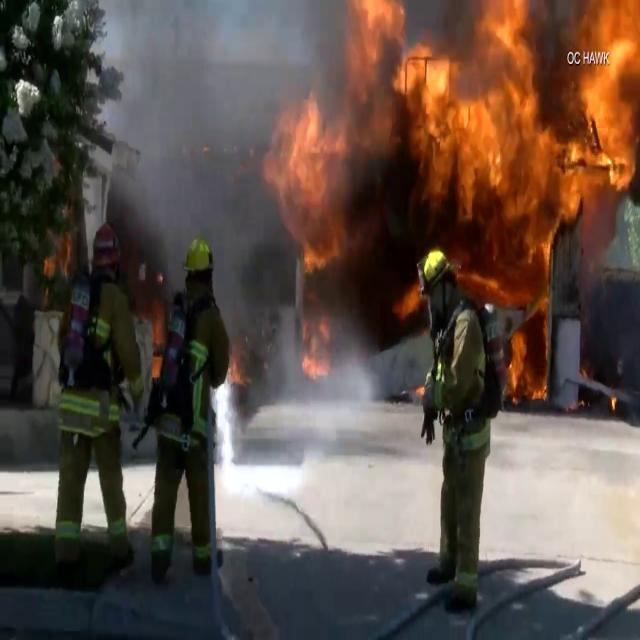Fire: (371, 0, 640, 400)
Smoke: (92, 1, 426, 323)
